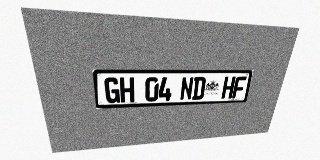0: (145, 77, 159, 102)
4: (158, 77, 172, 101)
D: (192, 77, 206, 100)
F: (232, 76, 247, 98)
G: (104, 77, 120, 103)
H: (120, 77, 134, 103), (221, 77, 236, 99)
N: (180, 77, 194, 100)
